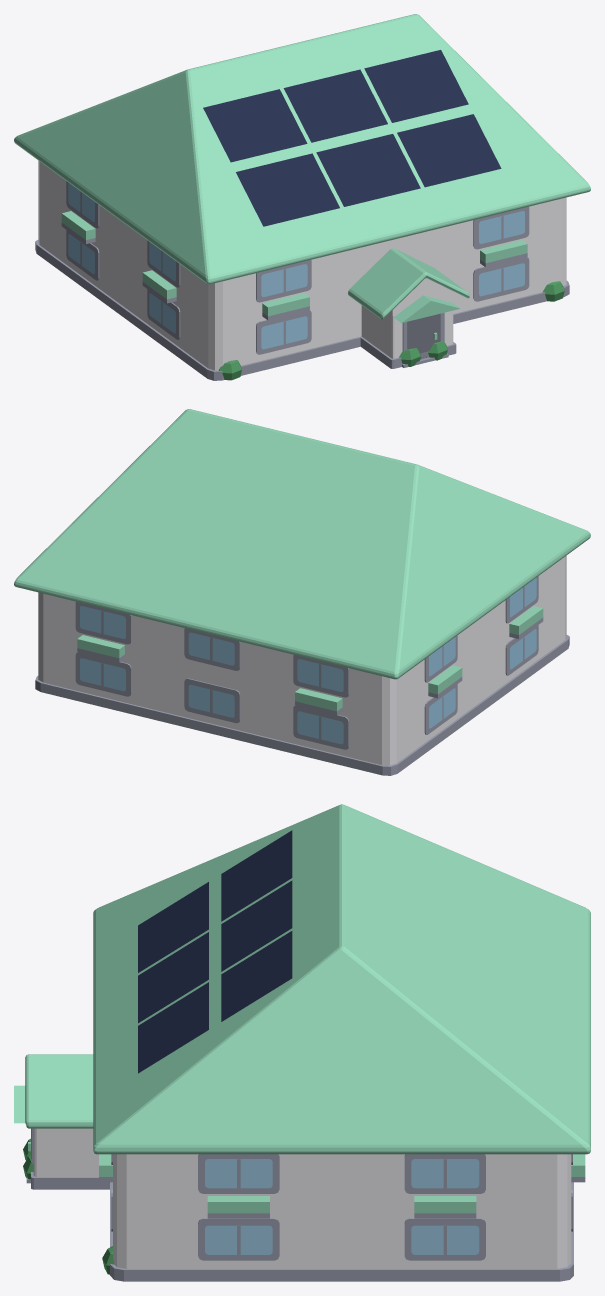
File: house-2x2-2f-tone-a-solar.glb
The picture shows the model from 3 angles, top to bottom: view 1: azimuth 30°, elevation 25°; view 2: azimuth 150°, elevation 25°; view 3: azimuth 270°, elevation 25°; orthographic projection. The views are drawn at different scales.
Parts seen in each view (by area): view 1: house-2x2-2f-tone-a-solar; view 2: house-2x2-2f-tone-a-solar; view 3: house-2x2-2f-tone-a-solar.
Boxes of the visible parts, box(x1,y1,x2,y2) form: house-2x2-2f-tone-a-solar: box(14, 14, 590, 380); house-2x2-2f-tone-a-solar: box(14, 409, 590, 775); house-2x2-2f-tone-a-solar: box(14, 804, 590, 1281).
Bounding box in the file's own units: 2 × 1.15 × 2.04.
1 material, 1 textured.
